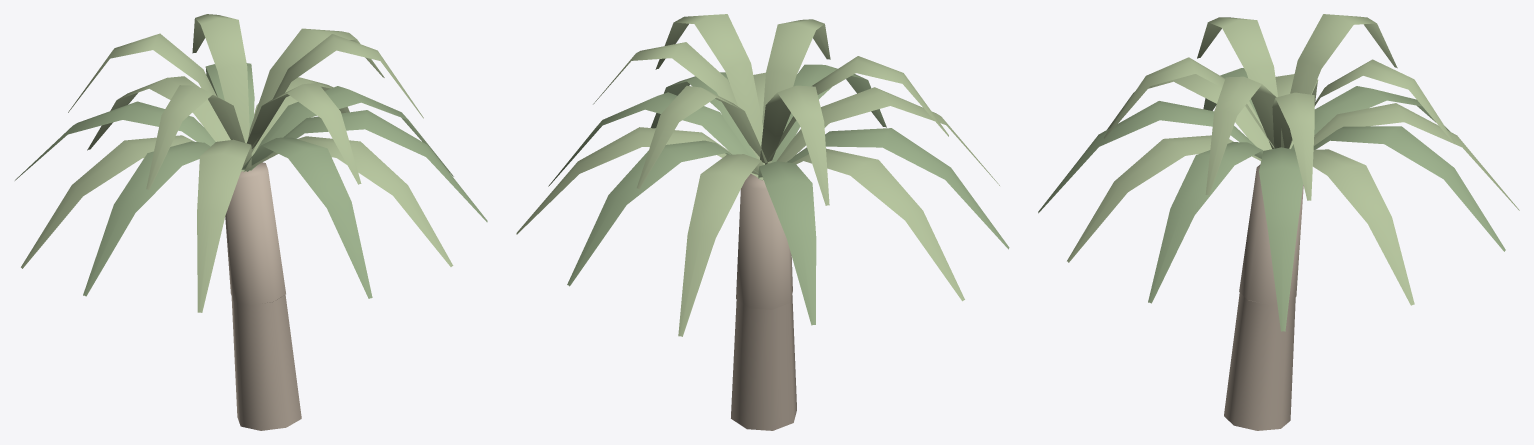
Rendered from small_palm_0.glb.
3 views of the same model, side by side, from view 1: azimuth 30°, elevation 25°; view 2: azimuth 150°, elevation 25°; view 3: azimuth 270°, elevation 25° (orthographic). The views are drawn at different scales.
Visible parts, largest first — view 1: small_palm_0.glb; view 2: small_palm_0.glb; view 3: small_palm_0.glb.
Part boxes in pixels (bbox=[...]): small_palm_0.glb: bbox=[15, 14, 487, 430]; small_palm_0.glb: bbox=[516, 14, 1009, 430]; small_palm_0.glb: bbox=[1038, 14, 1519, 430].
Size of the model in its own units: 2.6 by 2.21 by 2.59.
